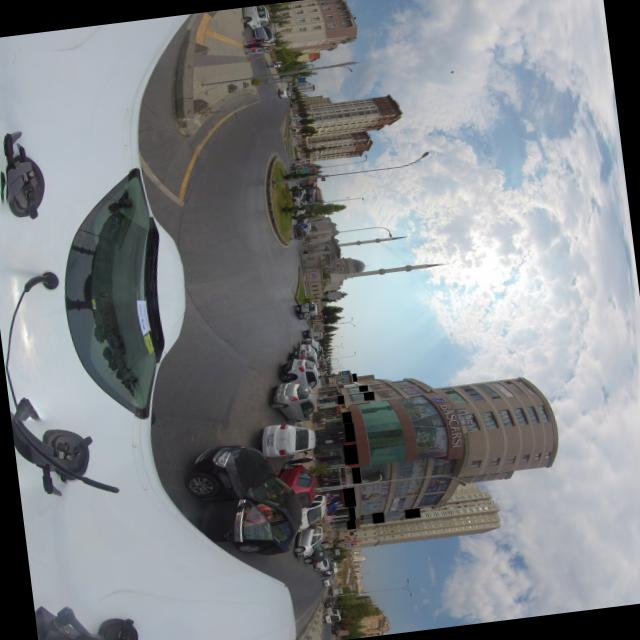SignStore: (342, 444, 357, 465), (342, 487, 354, 507), (342, 423, 354, 442), (350, 467, 360, 484), (404, 508, 418, 519), (341, 411, 351, 423), (372, 512, 382, 523), (347, 507, 354, 520), (345, 519, 354, 529), (362, 392, 373, 400), (336, 395, 343, 404), (358, 385, 367, 391), (351, 373, 356, 381)
